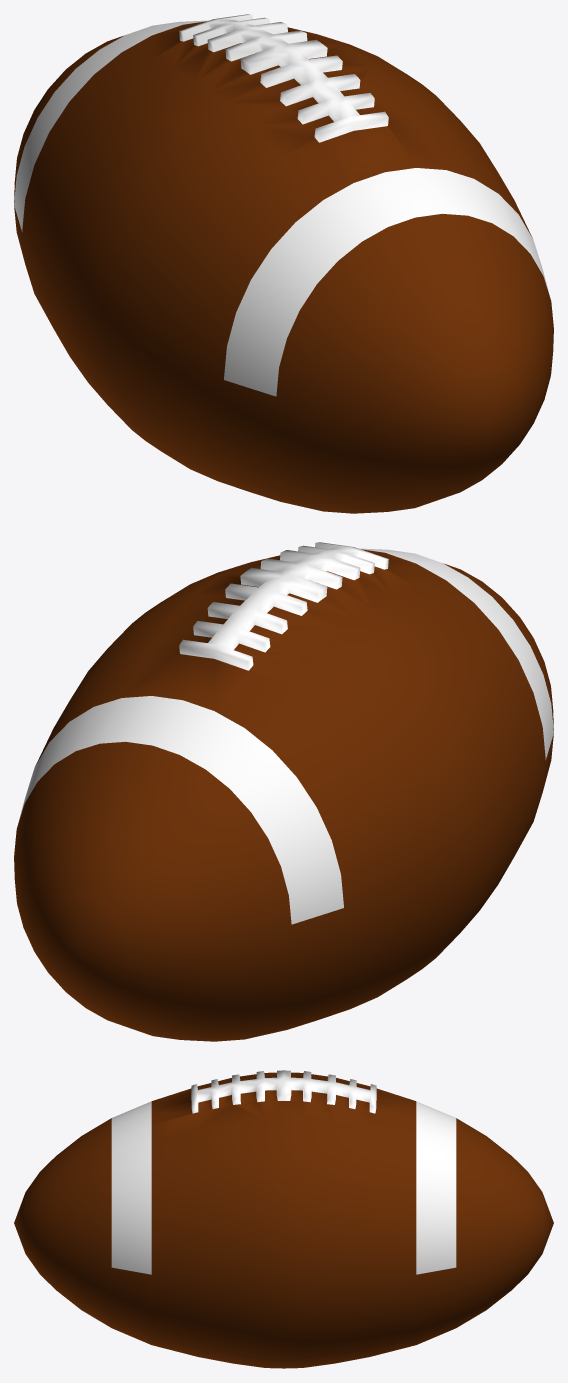
File: football_ball 1.fbx
The picture shows the model from 3 angles, top to bottom: view 1: azimuth 30°, elevation 25°; view 2: azimuth 150°, elevation 25°; view 3: azimuth 270°, elevation 25°; orthographic projection. The views are drawn at different scales.
Visible parts, largest first — view 1: Sphere; view 2: Sphere; view 3: Sphere.
Boxes of the visible parts, <box> form: Sphere: <box>14,14,553,513</box>; Sphere: <box>14,542,553,1041</box>; Sphere: <box>14,1070,553,1368</box>.
Bounding box in the file's own units: 198 × 203 × 361.
